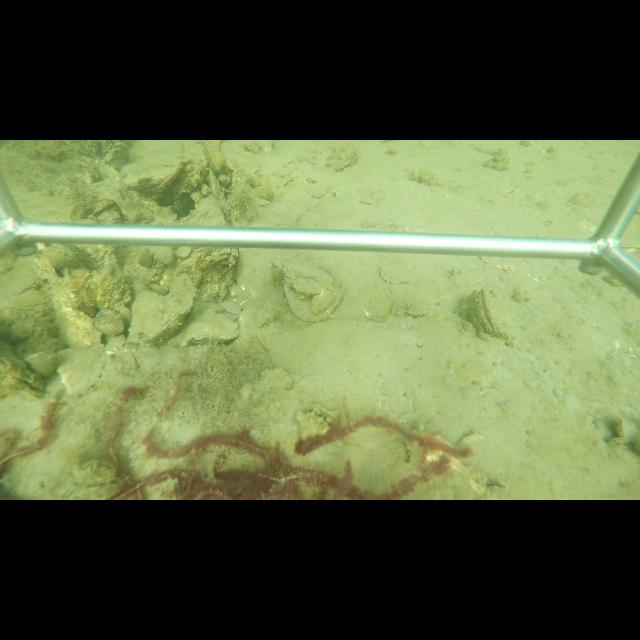Oyster-Closed: (124, 270, 200, 351), (173, 302, 242, 348), (471, 285, 514, 341), (152, 160, 190, 194), (200, 141, 225, 174)
